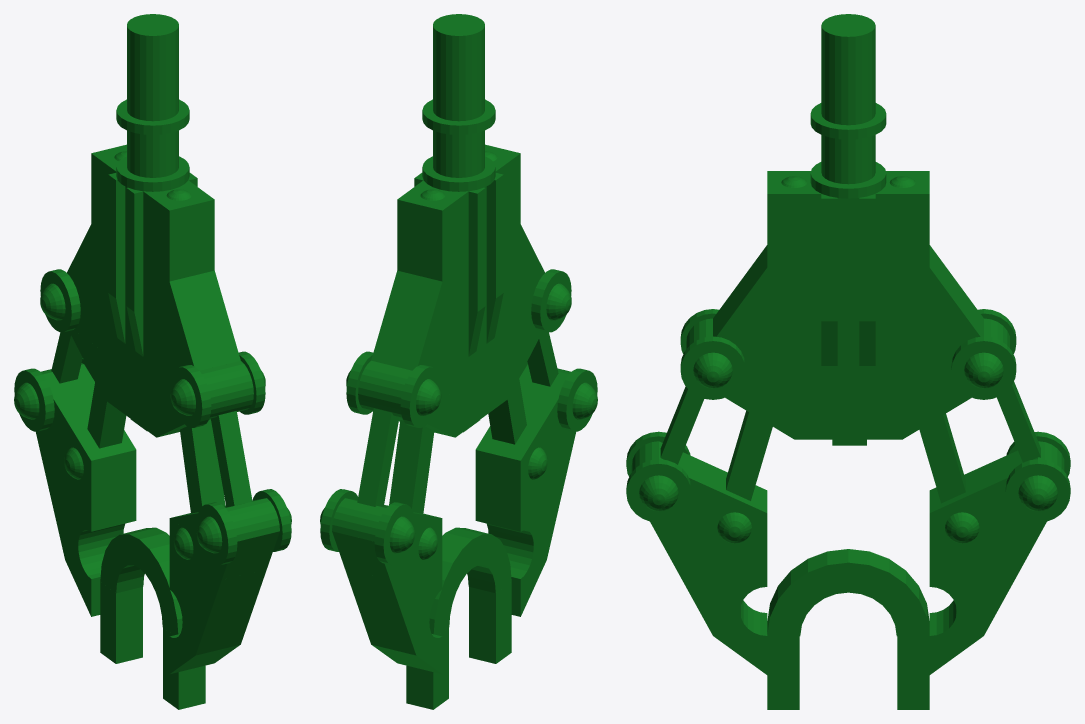
The model's file is Claw.fbx.
The picture shows the model from 3 angles, left to right: view 1: azimuth 30°, elevation 25°; view 2: azimuth 150°, elevation 25°; view 3: azimuth 270°, elevation 25°; orthographic projection. The views are drawn at different scales.
Parts seen in each view (by area): view 1: Claw; view 2: Claw; view 3: Claw.
Part boxes in pixels (<box>): Claw: <box>14,14,291,709</box>; Claw: <box>320,14,597,709</box>; Claw: <box>626,14,1070,709</box>.
Bounding box in the file's own units: 50.01 × 345 × 205.
1 material, 1 textured.
